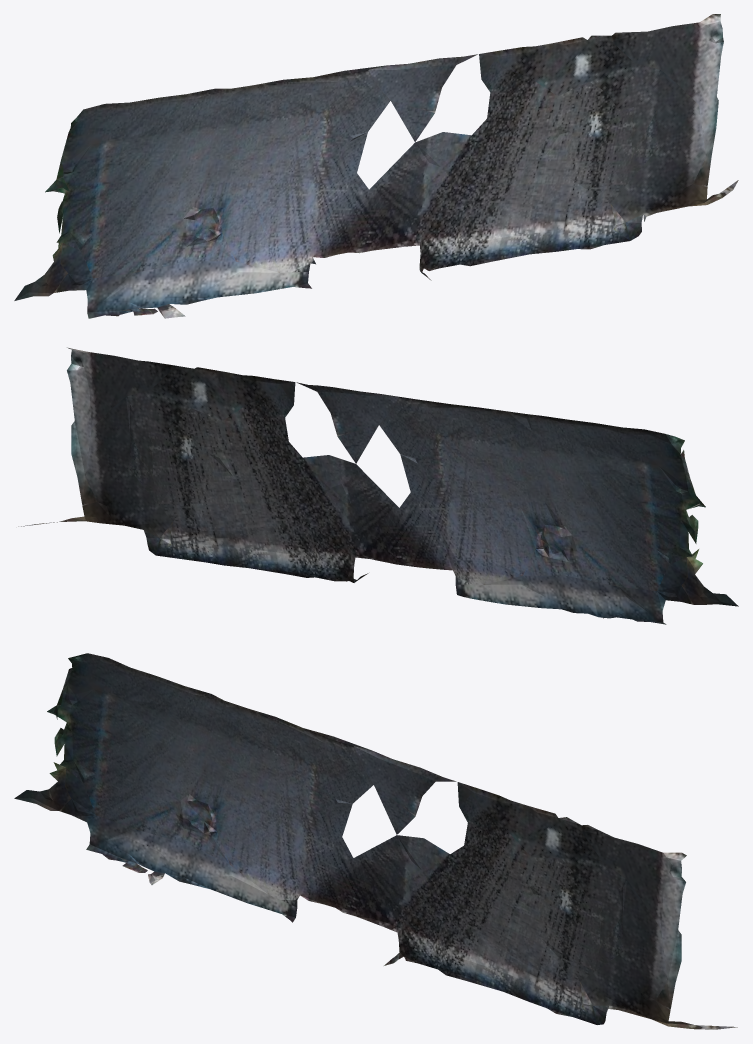
Rendered from meshes_1-dynamic - BLK2GO-3630355-Scan 080 30.obj.
3 views of the same model, one above another, from view 1: azimuth 30°, elevation 25°; view 2: azimuth 150°, elevation 25°; view 3: azimuth 330°, elevation 25° (orthographic). The views are drawn at different scales.
Parts seen in each view (by area): view 1: 1-dynamic_-_BLK2GO-3630355-Scan_080_30_0; view 2: 1-dynamic_-_BLK2GO-3630355-Scan_080_30_0; view 3: 1-dynamic_-_BLK2GO-3630355-Scan_080_30_0.
Boxes of the visible parts, bbox=[...] form: 1-dynamic_-_BLK2GO-3630355-Scan_080_30_0: bbox=[14, 14, 738, 318]; 1-dynamic_-_BLK2GO-3630355-Scan_080_30_0: bbox=[18, 347, 738, 624]; 1-dynamic_-_BLK2GO-3630355-Scan_080_30_0: bbox=[14, 653, 737, 1029].
Bounding box in the file's own units: 6.32 × 2.13 × 0.5451.
Materials: 1 (1 with a texture image).
